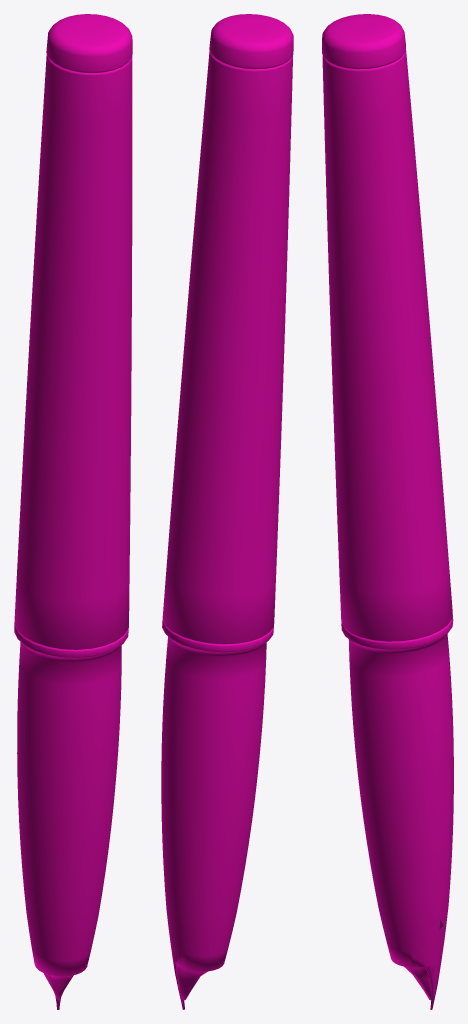
The model's file is pen.dae.
The picture shows the model from 3 angles, left to right: view 1: azimuth 90°, elevation 25°; view 2: azimuth 150°, elevation 25°; view 3: azimuth 330°, elevation 25°; orthographic projection. The views are drawn at different scales.
Visible parts, largest first — view 1: penVertexColour; view 2: penVertexColour; view 3: penVertexColour.
Part boxes in pixels (box(x1,y1,x2,y2)): penVertexColour: box(14, 14, 132, 1009); penVertexColour: box(161, 14, 293, 1009); penVertexColour: box(322, 14, 453, 1009).
Size of the model in its own units: 0.9009 by 0.8249 by 7.73.
